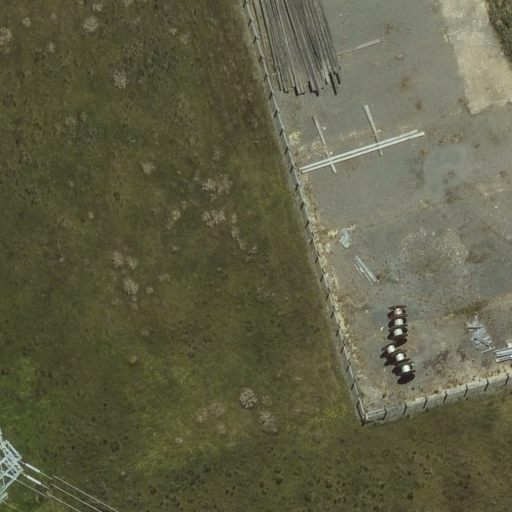TT: (1, 427, 35, 510)
